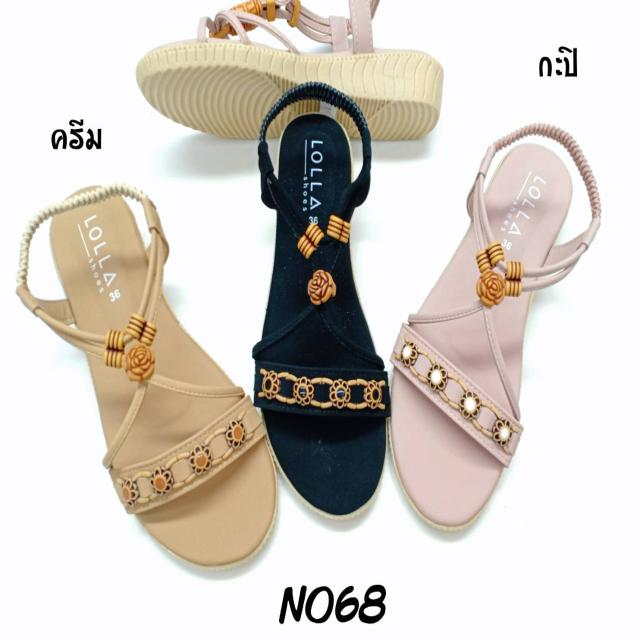cream: (52, 182, 275, 574)
kapi: (390, 144, 572, 529)
